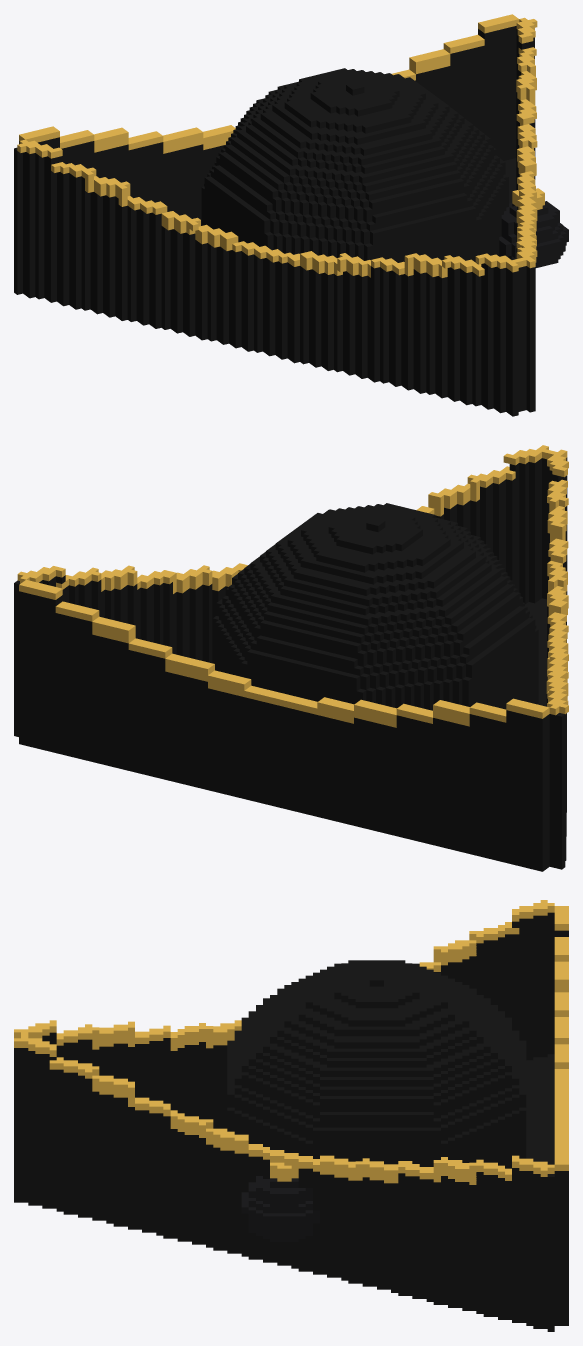
Rendered from tricorne.glb.
3 renders of one model, top to bottom at view 1: azimuth 30°, elevation 25°; view 2: azimuth 150°, elevation 25°; view 3: azimuth 270°, elevation 25°, orthographic. The views are drawn at different scales.
Parts seen in each view (by area): view 1: tricorne:compound; view 2: tricorne:compound; view 3: tricorne:compound.
Boxes of the visible parts, x1,y1,x2,y2 form: tricorne:compound: (14, 14, 568, 416); tricorne:compound: (14, 445, 568, 871); tricorne:compound: (14, 900, 568, 1331).
Bounding box in the file's own units: 0.36 × 0.136 × 0.312.
